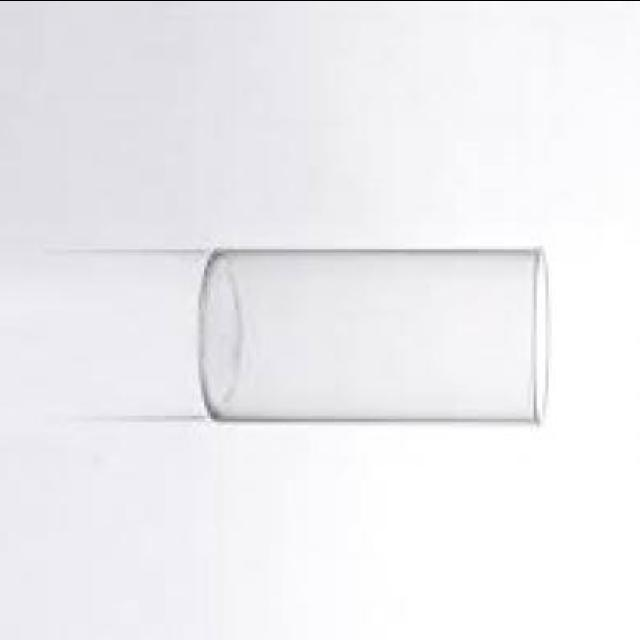kaca: (201, 247, 552, 421)
